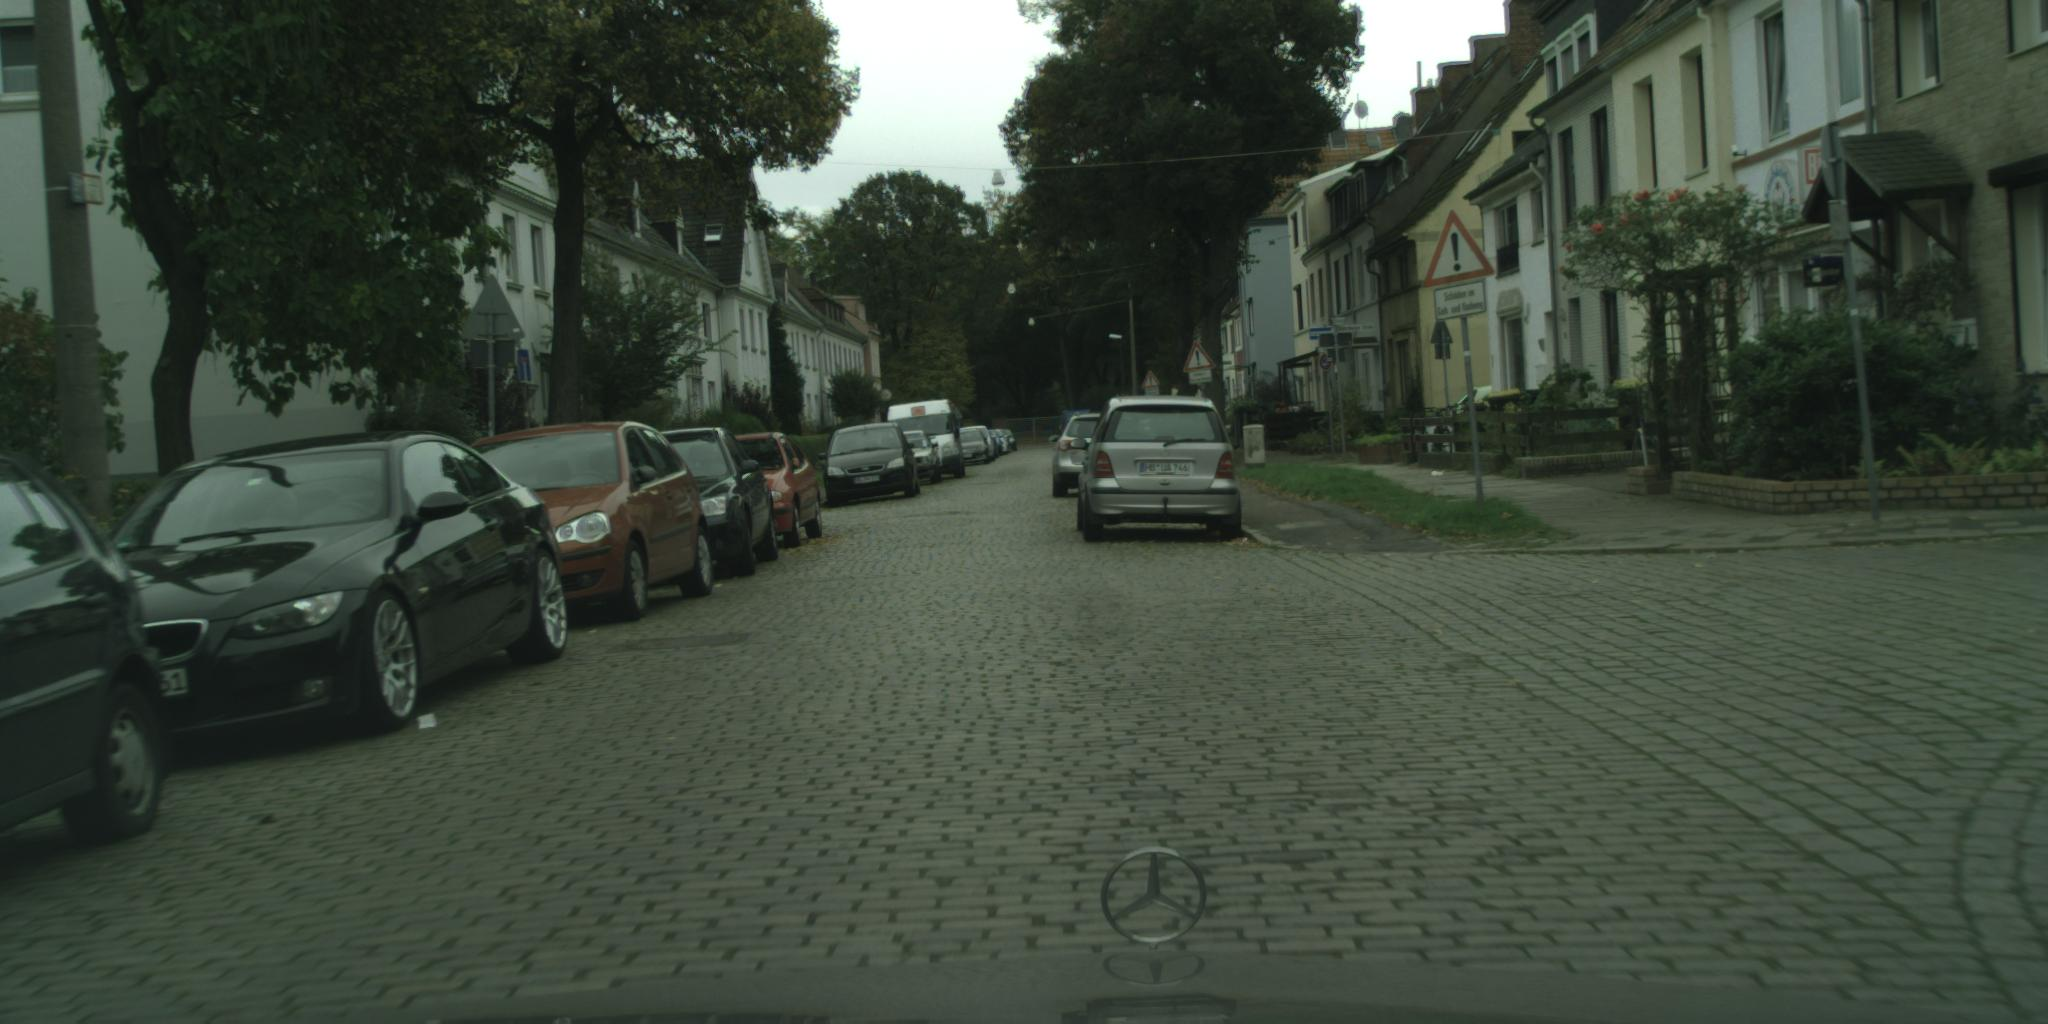bicycle: (1413, 404, 1462, 428)
car: (101, 431, 569, 759), (1, 451, 168, 848), (469, 421, 714, 623), (1071, 394, 1242, 543), (660, 428, 780, 579), (737, 434, 823, 551), (820, 422, 922, 509), (887, 400, 967, 479), (1050, 414, 1105, 500), (903, 430, 942, 485)
